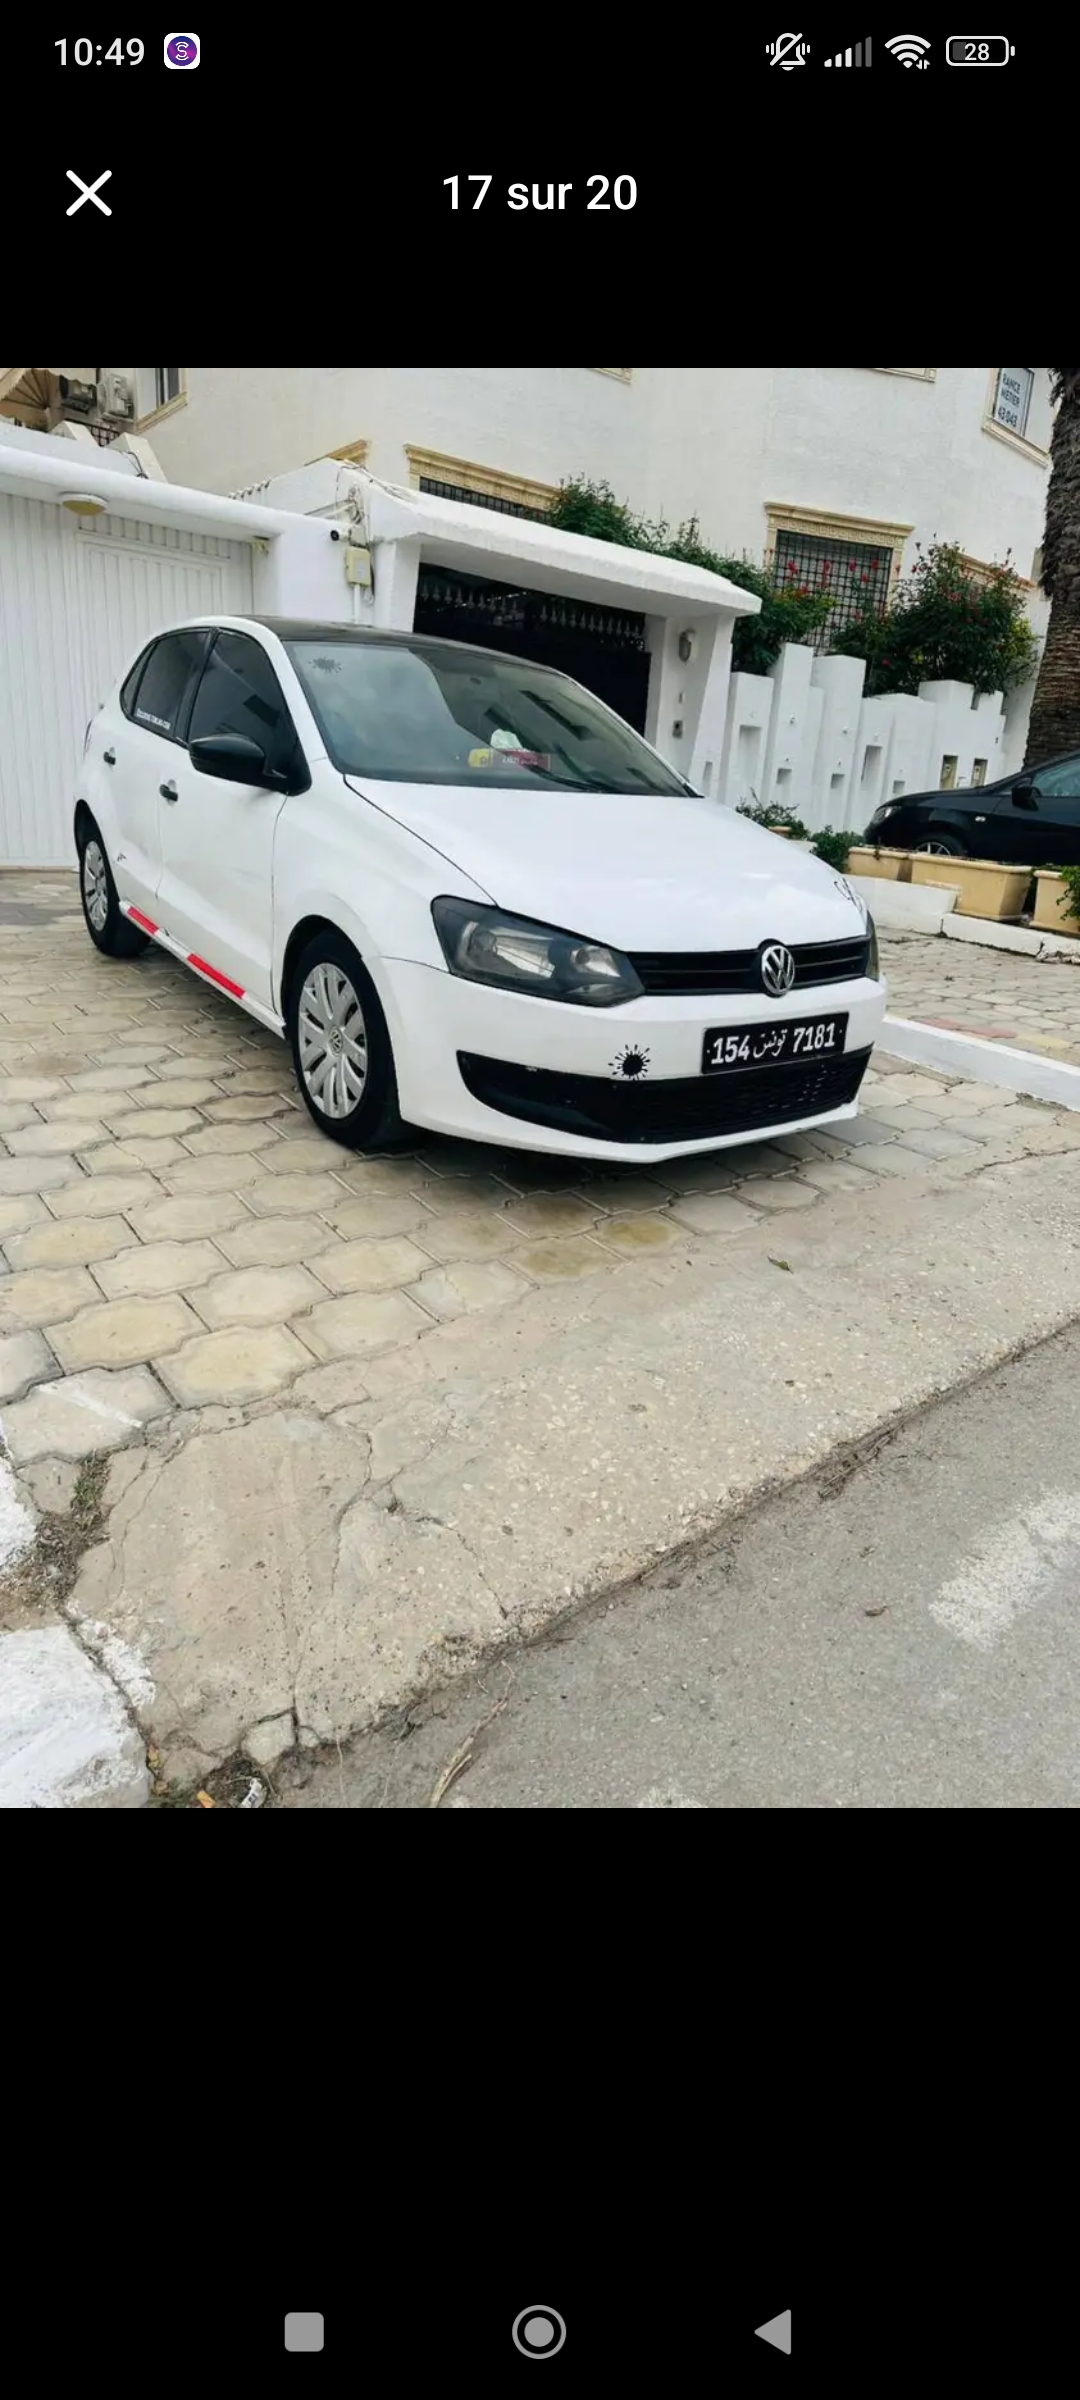volkswagen: (80, 612, 887, 1182)
